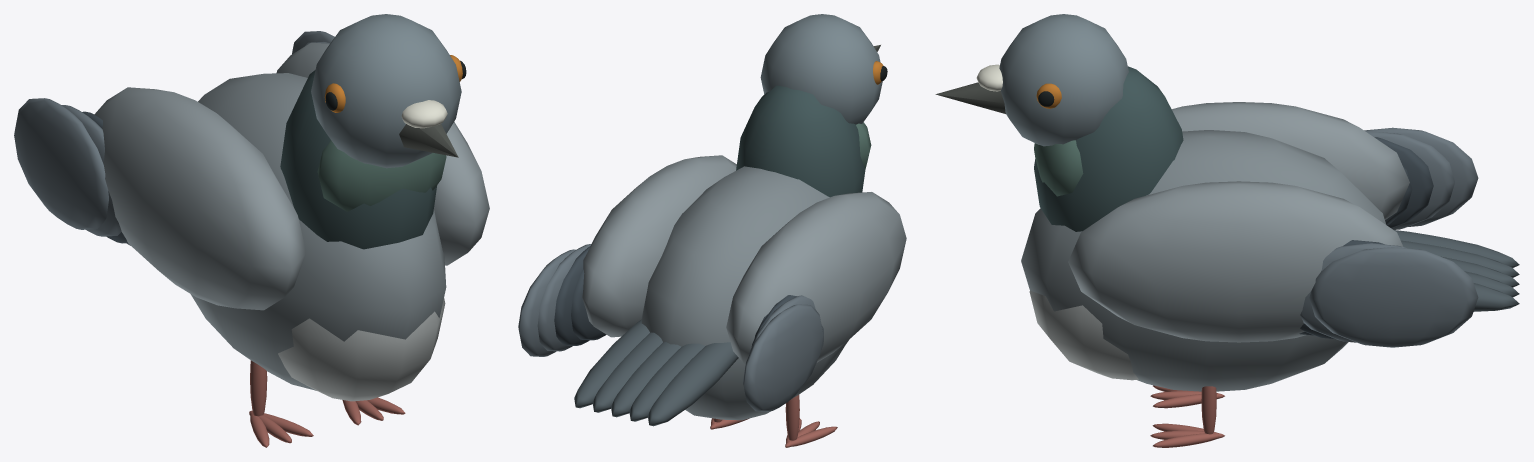
3 renders of one model, left to right at view 1: azimuth 30°, elevation 25°; view 2: azimuth 150°, elevation 25°; view 3: azimuth 270°, elevation 25°, orthographic. The views are drawn at different scales.
Visible parts, largest first — view 1: 비둘기; view 2: 비둘기; view 3: 비둘기.
Boxes of the visible parts, x1,y1,x2,y2 form: 비둘기: [14, 14, 489, 447]; 비둘기: [518, 14, 906, 447]; 비둘기: [935, 14, 1519, 447].
Bounding box in the file's own units: 0.3111 × 0.4403 × 0.5814.
